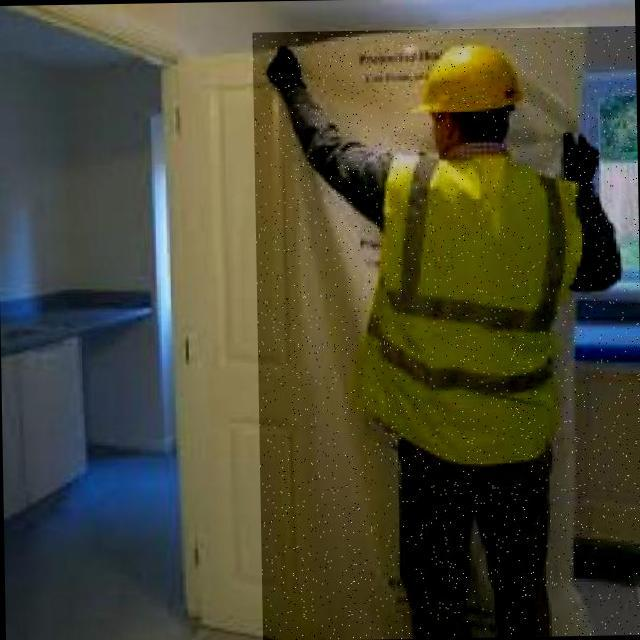Gloves: (543, 119, 613, 196), (258, 45, 309, 107)
Helmet: (412, 42, 525, 121)
Person: (252, 19, 637, 640)
Safety Vest: (356, 143, 586, 469)
